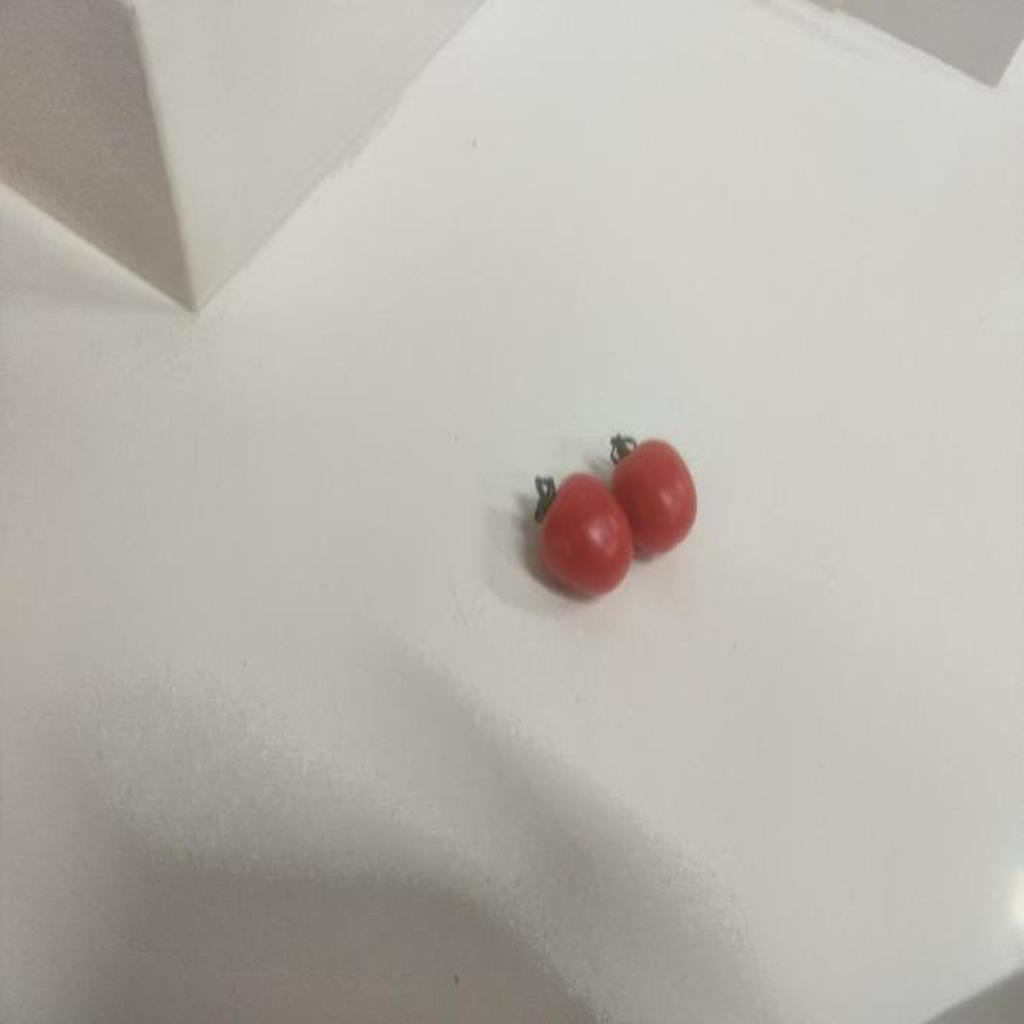tomato: (527, 471, 631, 592), (600, 436, 701, 557)
